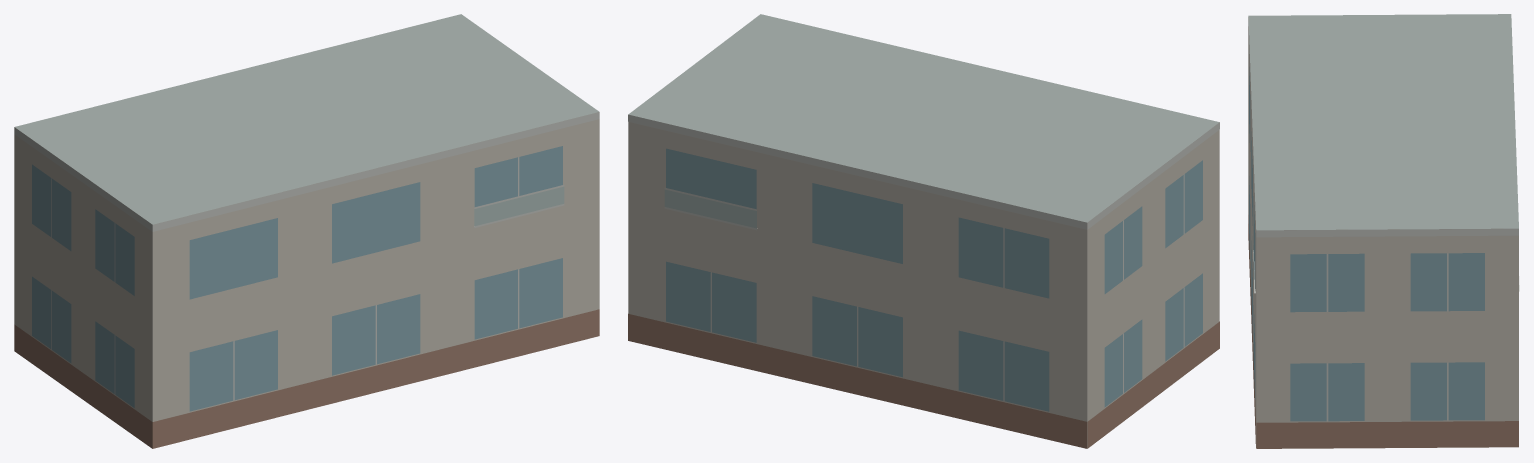
File: survey-upis-32630132.glb
3 renders of one model, left to right at view 1: azimuth 30°, elevation 25°; view 2: azimuth 150°, elevation 25°; view 3: azimuth 270°, elevation 25°, orthographic. The views are drawn at different scales.
Parts seen in each view (by area): view 1: survey-upis-32630132.tmp; view 2: survey-upis-32630132.tmp; view 3: survey-upis-32630132.tmp.
Boxes of the visible parts, bbox=[...] form: survey-upis-32630132.tmp: bbox=[14, 14, 599, 448]; survey-upis-32630132.tmp: bbox=[628, 14, 1219, 448]; survey-upis-32630132.tmp: bbox=[1248, 14, 1519, 448].
Bounding box in the file's own units: 16.14 × 7.6 × 8.55.
